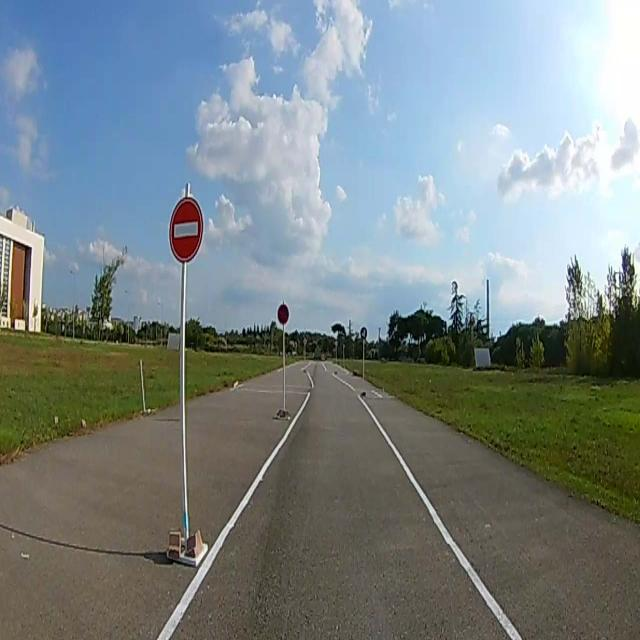girisyok: (169, 197, 202, 263)
